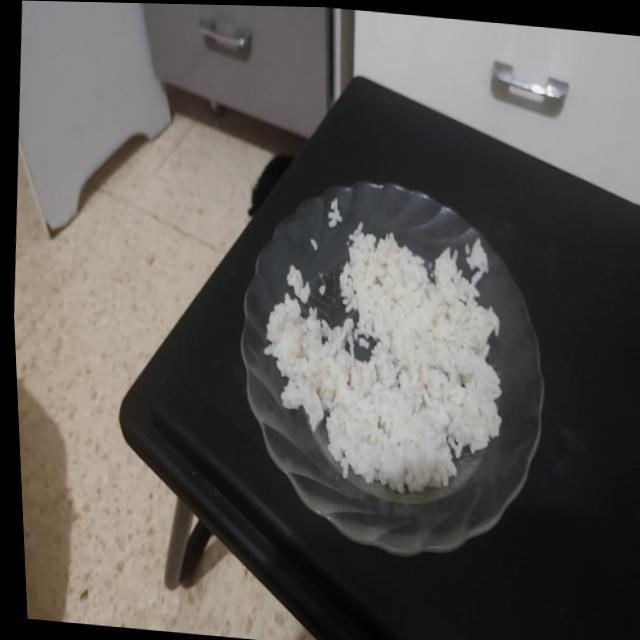nasi_putih: (266, 222, 501, 492)
